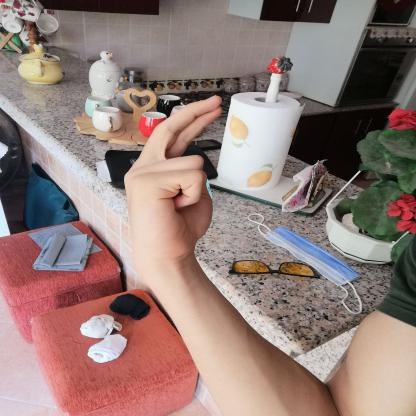ZAY: (114, 88, 234, 275)
